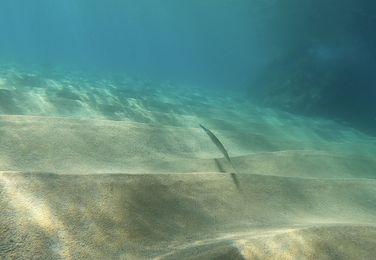Fistularia commersonii: (165, 105, 243, 190)
